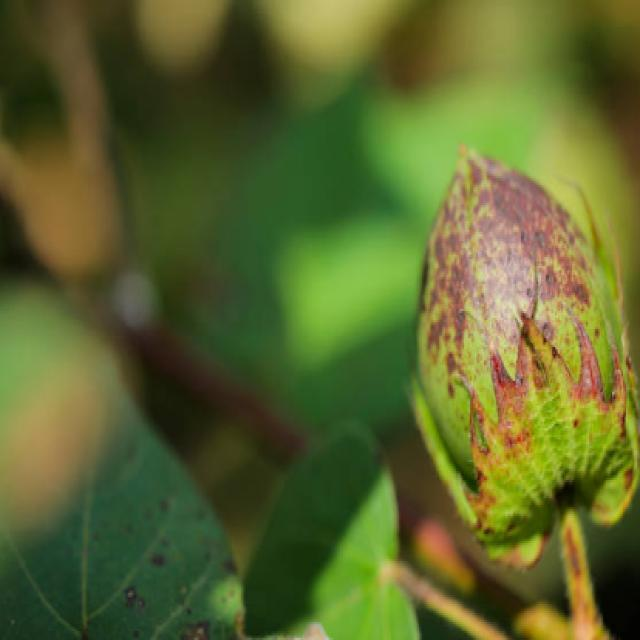Early Boll: (396, 142, 640, 545)
